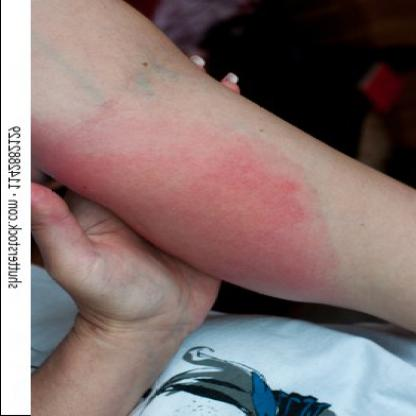Wasp: (174, 164, 334, 294), (48, 126, 174, 242)
